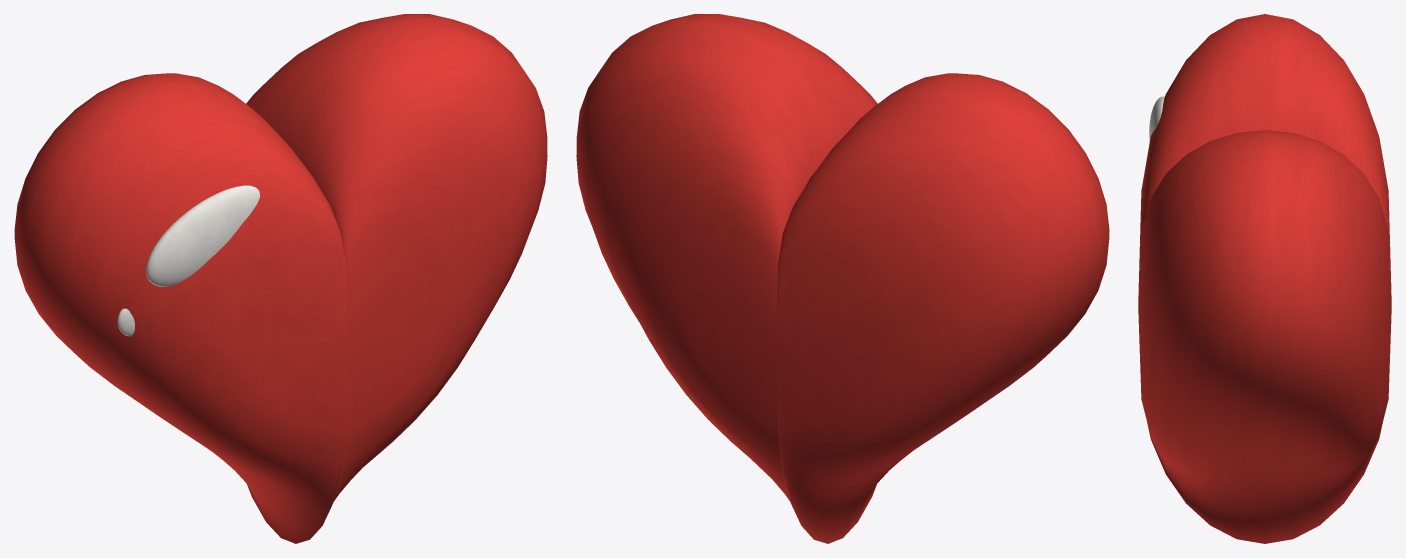
File: corazon.gltf
3 views of the same model, side by side, from view 1: azimuth 30°, elevation 25°; view 2: azimuth 150°, elevation 25°; view 3: azimuth 270°, elevation 25° (orthographic). The views are drawn at different scales.
Visible parts, largest first — view 1: corazon; view 2: corazon; view 3: corazon.
Part boxes in pixels (x1=…): corazon: x1=14, y1=14, x2=547, y2=543; corazon: x1=576, y1=14, x2=1109, y2=543; corazon: x1=1138, y1=14, x2=1391, y2=543.
Bounding box in the file's own units: 0.8847 × 0.7988 × 0.4.
Materials: 2 (2 with a texture image).
